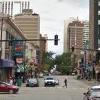Traffic light: (48, 26, 61, 50)
